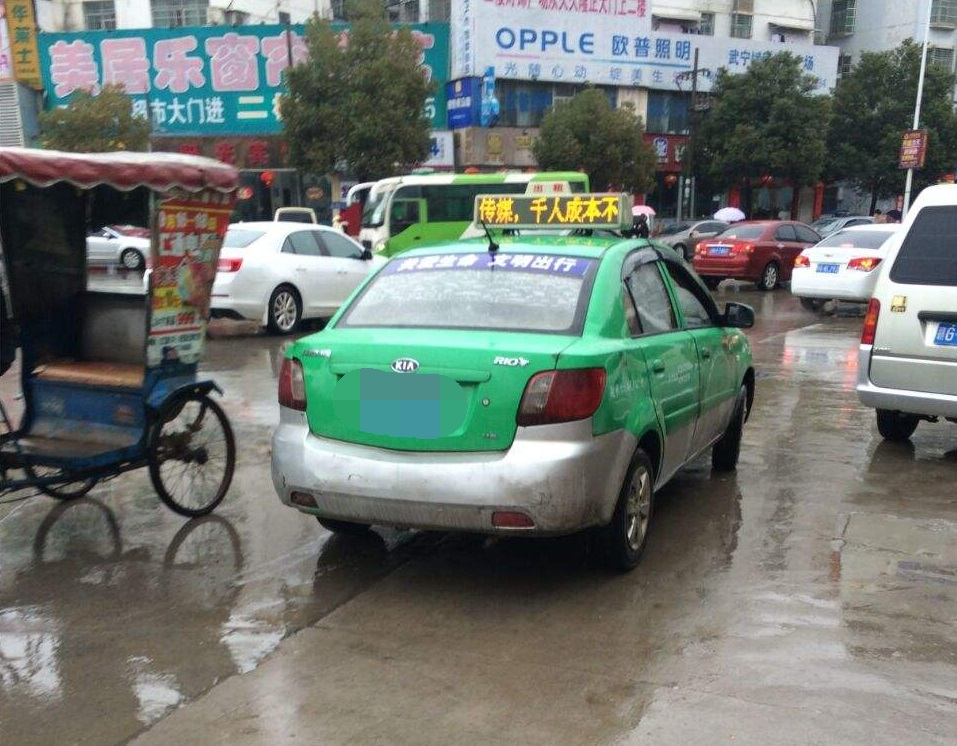taxi: (256, 178, 766, 571)
